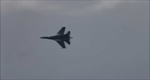maybay_muctieu: (40, 26, 72, 49)
